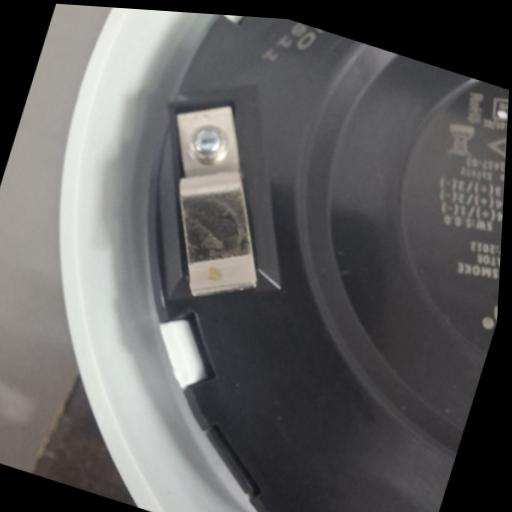yaysiz: (122, 83, 309, 317)
